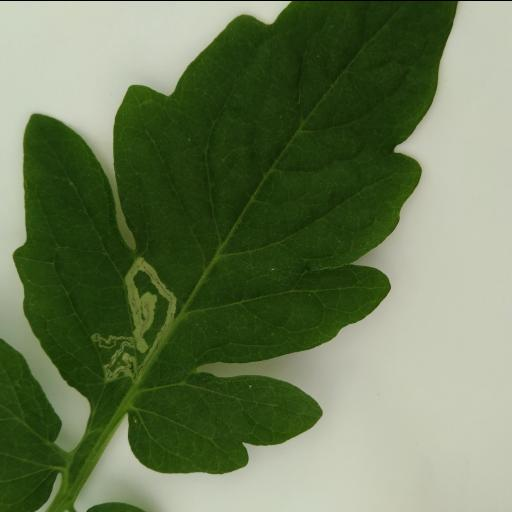Leaf Miner: (12, 0, 458, 479)
